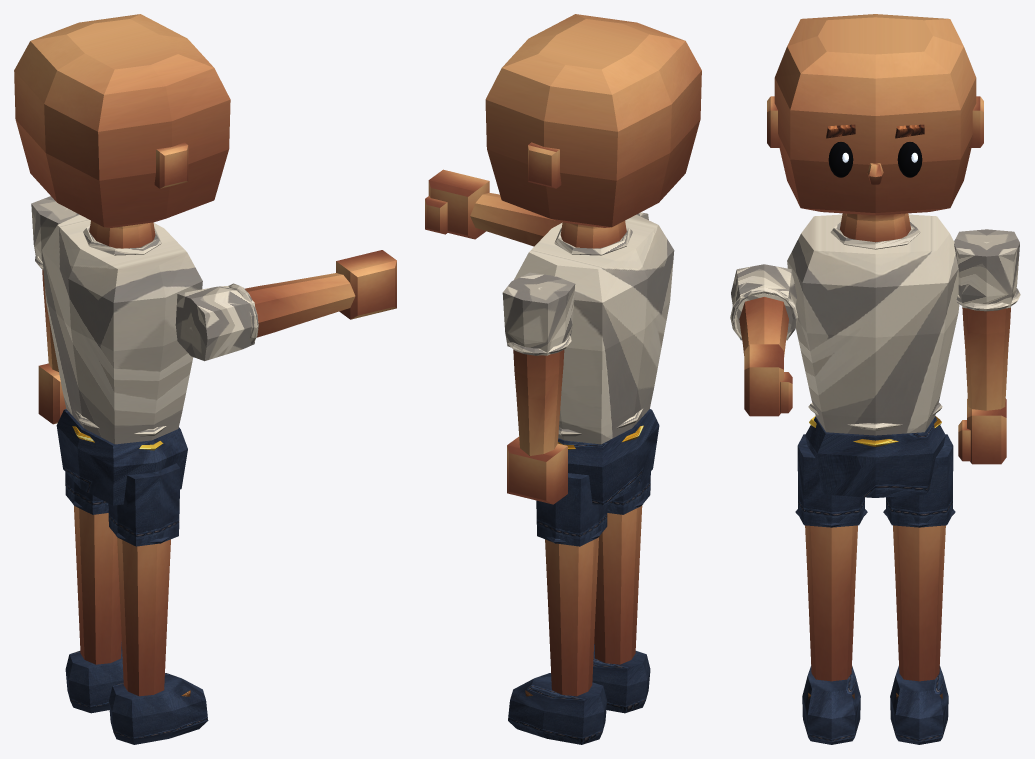
File: body.glb
3 renders of one model, left to right at view 1: azimuth 30°, elevation 25°; view 2: azimuth 150°, elevation 25°; view 3: azimuth 270°, elevation 25°, orthographic.
Visible parts, largest first — view 1: head, chest, leg_R, arm_R, leg_L, hips, foot_R, hand_R, foot_L, arm_L, hand_L; view 2: head, chest, leg_L, arm_L, leg_R, foot_L, hips, hand_R, hand_L, arm_R, foot_R; view 3: head, chest, leg_R, leg_L, arm_L, hips, arm_R, foot_L, foot_R, hand_R, hand_L.
Part boxes in pixels (x1,y1,x2,y2): head: (14, 14, 230, 227); chest: (42, 214, 202, 444); leg_R: (108, 463, 180, 696); arm_R: (175, 273, 355, 361); leg_L: (65, 472, 121, 664); hips: (56, 409, 187, 505); foot_R: (109, 673, 208, 744); hand_R: (336, 250, 396, 319); foot_L: (65, 642, 123, 713); arm_L: (31, 196, 79, 371); hand_L: (38, 363, 66, 424); head: (485, 14, 701, 227); chest: (514, 214, 674, 444); leg_L: (536, 473, 607, 696); arm_L: (502, 272, 575, 455); leg_R: (594, 472, 650, 664); foot_L: (508, 673, 607, 744); hips: (558, 409, 659, 505); hand_R: (425, 169, 489, 239); hand_L: (507, 436, 567, 504); arm_R: (470, 193, 648, 246); foot_R: (592, 644, 650, 713); head: (767, 14, 983, 215); chest: (787, 213, 959, 435); leg_R: (795, 434, 867, 681); leg_L: (883, 434, 955, 681); arm_L: (954, 229, 1020, 410); hips: (805, 416, 945, 497); arm_R: (730, 264, 797, 356); foot_L: (890, 665, 948, 744); foot_R: (802, 665, 860, 744); hand_R: (744, 344, 792, 416); hand_L: (958, 398, 1006, 464).
Size of the model in its own units: 0.5823 by 1.29 by 0.496.
9 materials, 9 textured.
